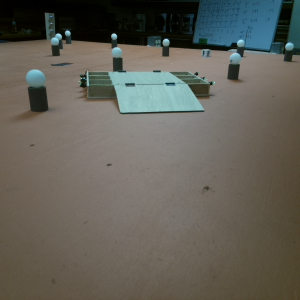obstacle: (25, 69, 50, 113), (227, 52, 241, 82), (111, 47, 125, 71), (283, 41, 294, 63), (237, 39, 246, 57), (162, 38, 170, 57), (52, 37, 60, 56), (56, 34, 64, 47), (110, 32, 117, 46), (65, 31, 72, 44)
slope: (113, 83, 205, 116)
